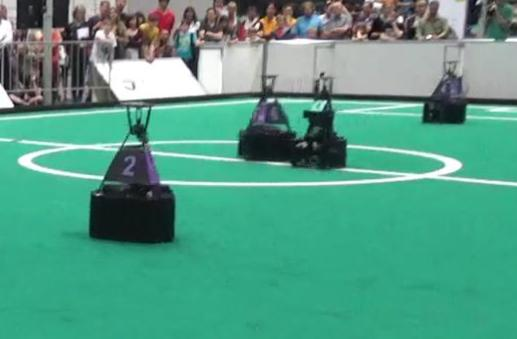robot: (88, 99, 177, 244), (290, 71, 349, 171), (239, 73, 298, 163), (421, 45, 469, 125)
